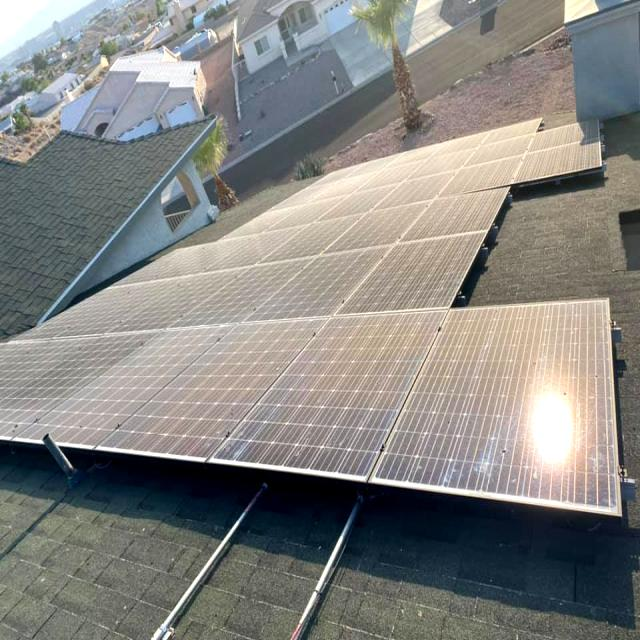dust: (450, 304, 616, 510), (312, 317, 433, 473), (74, 328, 200, 434), (212, 318, 296, 448), (393, 148, 498, 232), (133, 277, 284, 317), (314, 176, 382, 247), (8, 347, 66, 430), (389, 235, 450, 302), (309, 268, 384, 316), (534, 136, 604, 178), (236, 222, 306, 264), (182, 237, 232, 275), (90, 295, 122, 326)
